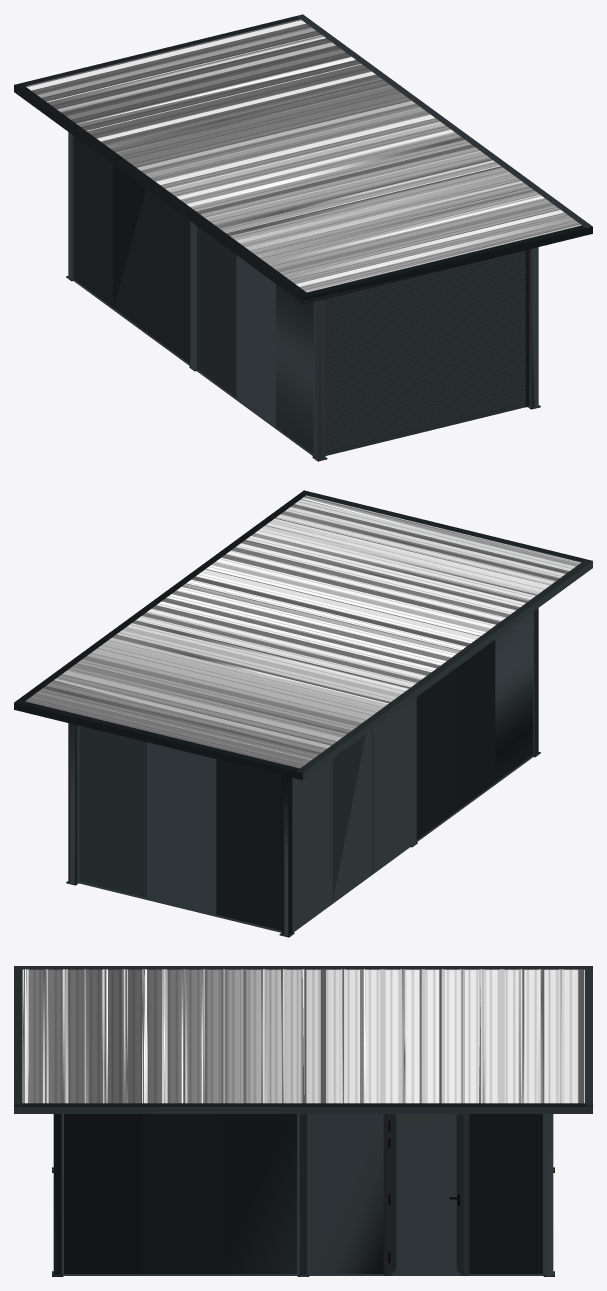
The picture shows the model from 3 angles, top to bottom: view 1: azimuth 30°, elevation 25°; view 2: azimuth 150°, elevation 25°; view 3: azimuth 270°, elevation 25°; orthographic projection.
Parts seen in each view (by area): view 1: priximbattable_net_abris_de_voiture_640017_garage_toit_plat_, lame_13, lame_6, lame_17, lame_11, lame_10, lame_9, lame_8, lame_3, lame_2, lame_15, lame_4 (+9 smaller); view 2: priximbattable_net_abris_de_voiture_640017_garage_toit_plat_; view 3: priximbattable_net_abris_de_voiture_640017_garage_toit_plat_, folha, porta.
Boxes of the visible parts, x1=… form: priximbattable_net_abris_de_voiture_640017_garage_toit_plat_: x1=14, y1=14, x2=592, y2=461; lame_13: x1=326, y1=274, x2=525, y2=331; lame_6: x1=326, y1=334, x2=525, y2=391; lame_17: x1=326, y1=395, x2=525, y2=452; lame_11: x1=326, y1=291, x2=525, y2=348; lame_10: x1=326, y1=300, x2=525, y2=357; lame_9: x1=326, y1=308, x2=525, y2=365; lame_8: x1=326, y1=317, x2=525, y2=374; lame_3: x1=326, y1=360, x2=525, y2=417; lame_2: x1=326, y1=369, x2=525, y2=426; lame_15: x1=326, y1=257, x2=525, y2=313; lame_4: x1=326, y1=352, x2=525, y2=408; priximbattable_net_abris_de_voiture_640017_garage_toit_plat_: x1=14, y1=490, x2=592, y2=937; priximbattable_net_abris_de_voiture_640017_garage_toit_plat_: x1=14, y1=966, x2=592, y2=1276; folha: x1=388, y1=1114, x2=463, y2=1275; porta: x1=383, y1=1114, x2=469, y2=1275.
Size of the model in its own units: 420 by 259 by 730.
1 material, 1 textured.
